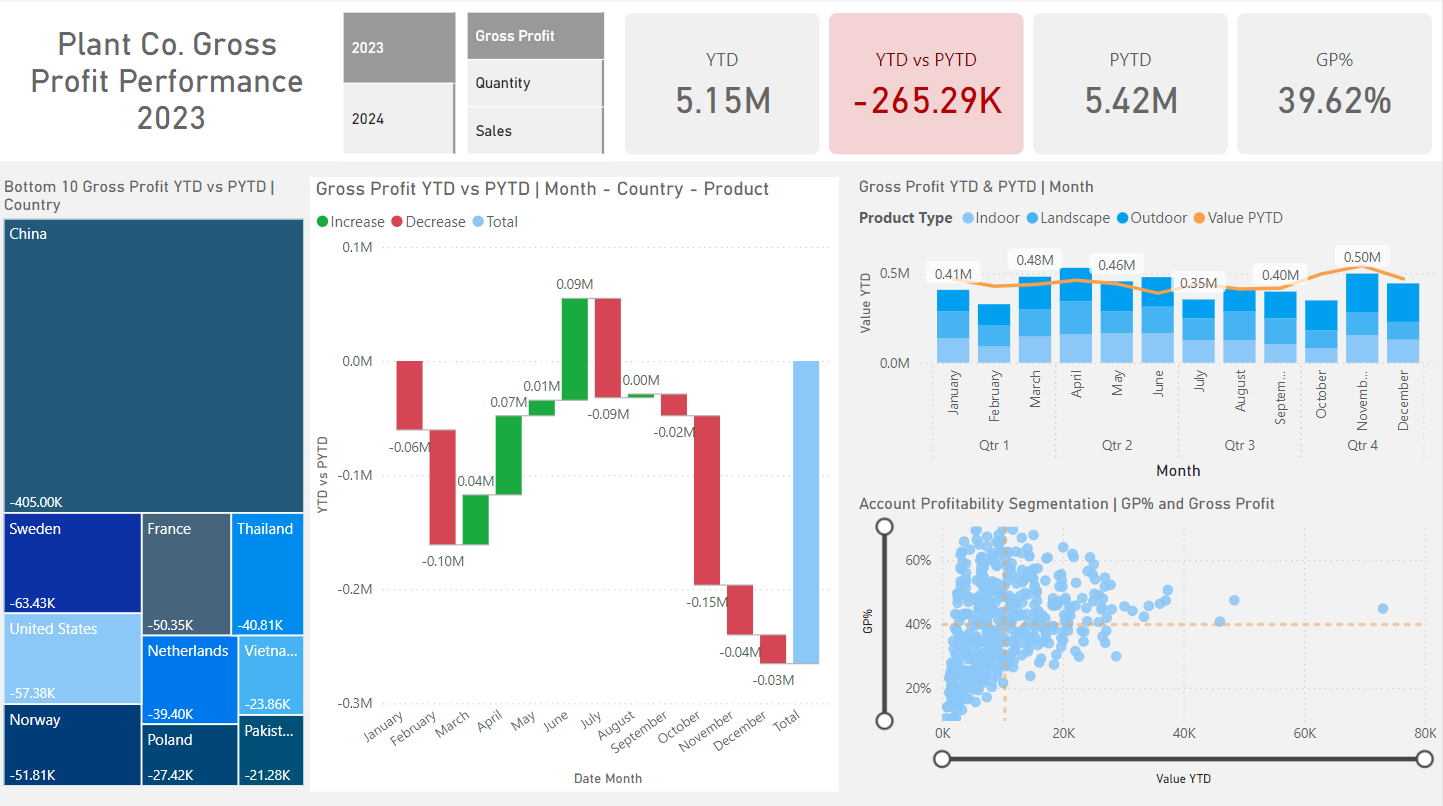

This screenshot's page, from the dashboard's own definition file:
{"tool":"powerbi","page":{"name":"Performance Report","canvas":[1280,720],"ordinal":0},"visuals":[{"type":"cardVisual","fields":{"Data":["_Measures.S_YTD","_Measures.YTD vs PYTD","_Measures.S_PYTD","_Measures.GP%"]},"box":[550.4,7.6,729.6,136.5],"z":0},{"type":"advancedSlicerVisual","fields":{"Values":["Slc_Values.Values"]},"box":[411.4,8,131.2,136.6],"z":1000},{"type":"treemap","fields":{"Values":["_Measures.YTD vs PYTD"],"Group":["Dim_Account.country"]},"box":[0,158.4,276.3,545],"z":2000},{"type":"waterfallChart","fields":{"Y":["_Measures.YTD vs PYTD"],"Category":["Dim_Date.Date.Variation.Date Hierarchy.Month","Dim_Account.country","Dim_Product.Produt_Type","Dim_Product.Product_Name"]},"box":[276.3,158.4,468.5,545],"z":3000},{"type":"lineStackedColumnComboChart","fields":{"Y":["_Measures.S_YTD"],"Y2":["_Measures.S_PYTD"],"Category":["Dim_Date.Date.Variation.Date Hierarchy.Quarter","Dim_Date.Date.Variation.Date Hierarchy.Month"],"Series":["Dim_Product.Produt_Type"]},"box":[758,158.4,522,273],"z":4000},{"type":"scatterChart","fields":{"Y":["_Measures.GP%"],"X":["_Measures.S_YTD"],"Category":["Dim_Account.Account"]},"box":[758,440.1,522,263.2],"z":5000},{"type":"card","fields":{"Values":["_Measures._Report Title"]},"box":[13.1,7.6,280.7,124.5],"z":6000},{"type":"advancedSlicerVisual","fields":{"Values":["Dim_Date.Date.Variation.Date Hierarchy.Year"]},"box":[301.5,8,110,136.6],"z":7000}]}

Visuals, with their boxes in screenshot pixels (x1, y1, x2, y2), scaled from the page's 1280x720 canvas onto the 1443x806 screenshot:
cardVisual - _Measures.S_YTD x _Measures.YTD vs PYTD: x1=620 y1=9 x2=1442 y2=161
advancedSlicerVisual - Slc_Values.Values: x1=464 y1=9 x2=612 y2=162
treemap - _Measures.YTD vs PYTD x Dim_Account.country: x1=0 y1=177 x2=311 y2=787
waterfallChart - _Measures.YTD vs PYTD x Dim_Date.Date.Variation.Date Hierarchy.Month: x1=311 y1=177 x2=840 y2=787
lineStackedColumnComboChart - _Measures.S_YTD x _Measures.S_PYTD: x1=855 y1=177 x2=1442 y2=483
scatterChart - _Measures.GP% x _Measures.S_YTD: x1=855 y1=493 x2=1442 y2=787
card - _Measures._Report Title: x1=15 y1=9 x2=331 y2=148
advancedSlicerVisual - Dim_Date.Date.Variation.Date Hierarchy.Year: x1=340 y1=9 x2=464 y2=162
